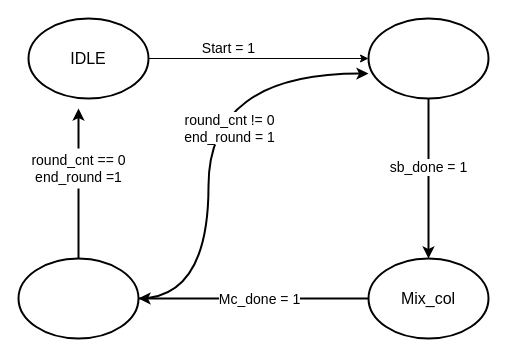
The diagram is 506 pixels wide and 356 high, and some of its shapes have lost their labels. The shapes that lost their labels are listed below. From the top down, each one's box as (x1, y1, x2, y2) in pixels, then its label:
(367, 17, 489, 99): Load state & round key
(17, 257, 139, 339): increase round_cnt
